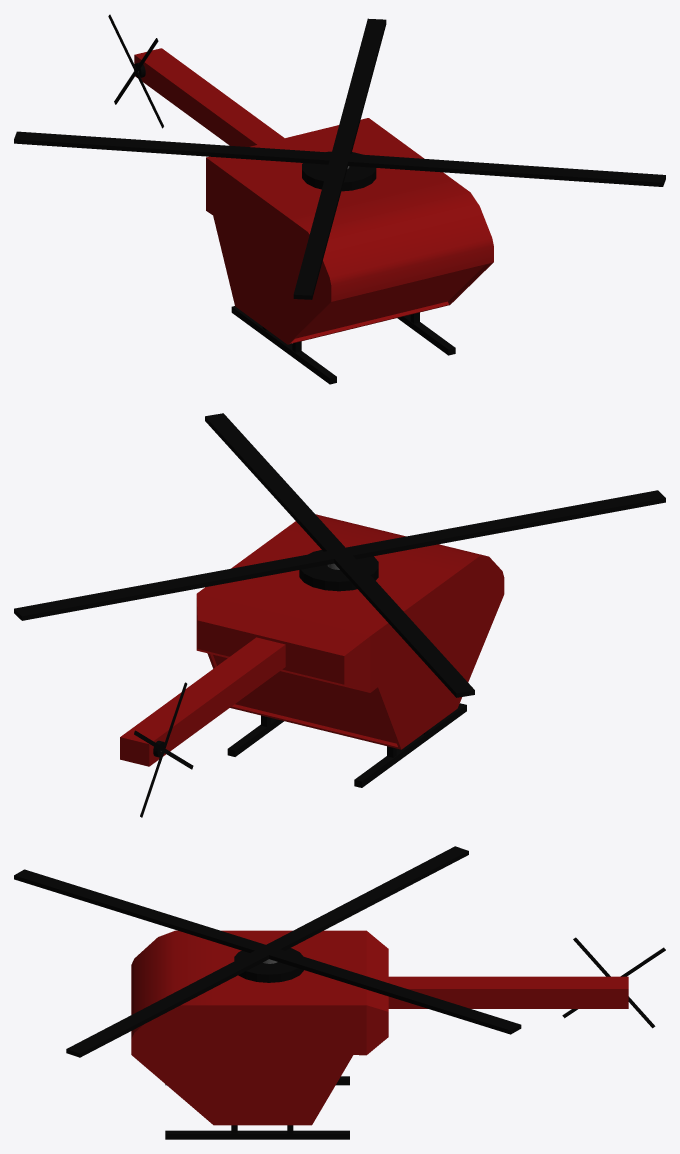
File: HeliBlocky.obj
3 renders of one model, top to bottom at view 1: azimuth 30°, elevation 25°; view 2: azimuth 150°, elevation 25°; view 3: azimuth 270°, elevation 25°, orthographic. The views are drawn at different scales.
Parts seen in each view (by area): view 1: CarBody, Box002, Box003, Box001, Wheel001, Box006, Box007; view 2: CarBody, Box003, Box001, Box002, Wheel001, Box006, Box007; view 3: CarBody, Box001, Box003, Box002, Box007, Wheel001.
Boxes of the visible parts, x1,y1,x2,y2 form: CarBody: [206, 118, 493, 344]; Box002: [14, 131, 665, 186]; Box003: [293, 18, 386, 299]; Box001: [134, 48, 284, 146]; Wheel001: [302, 151, 376, 191]; Box006: [231, 306, 336, 384]; Box007: [397, 315, 455, 355]; CarBody: [196, 514, 504, 749]; Box003: [14, 490, 665, 620]; Box001: [120, 637, 285, 766]; Box002: [205, 413, 474, 697]; Wheel001: [299, 550, 378, 591]; Box006: [354, 703, 466, 787]; Box007: [227, 718, 283, 756]; CarBody: [131, 930, 388, 1125]; Box001: [388, 976, 628, 1008]; Box003: [14, 869, 521, 1034]; Box002: [66, 846, 468, 1057]; Box007: [165, 1130, 349, 1139]; Wheel001: [234, 948, 303, 982].
Bounding box in the file's own units: 556 × 207 × 739.
